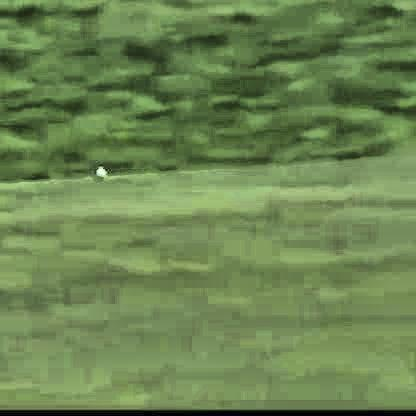golfball: (91, 165, 107, 176)
